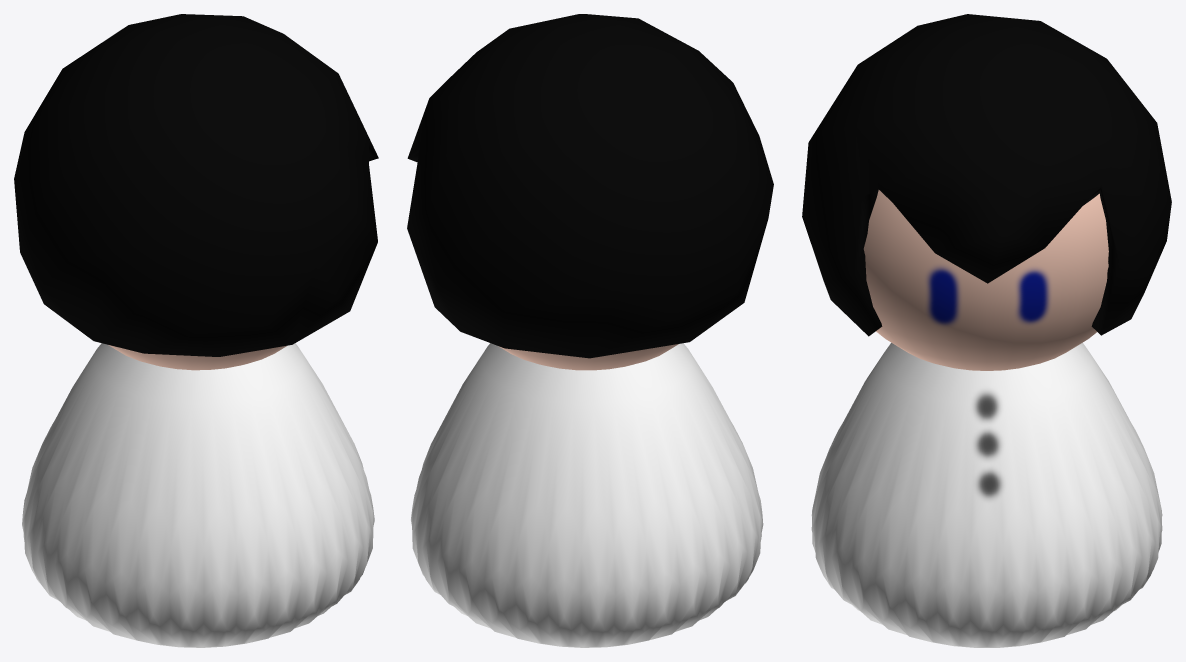
The model's file is playermodel.gltf.
3 renders of one model, left to right at view 1: azimuth 30°, elevation 25°; view 2: azimuth 150°, elevation 25°; view 3: azimuth 270°, elevation 25°, orthographic.
Visible parts, largest first — view 1: Hair.001, Body.001, Head.001; view 2: Hair.001, Body.001, Head.001; view 3: Body.001, Hair.001, Head.001.
Boxes of the visible parts, box(x1,y1,x2,y2) form: Hair.001: box(14, 14, 378, 356); Body.001: box(22, 343, 374, 647); Head.001: box(108, 345, 286, 370); Hair.001: box(407, 14, 773, 358); Body.001: box(411, 343, 763, 647); Head.001: box(498, 344, 678, 370); Body.001: box(811, 343, 1162, 647); Hair.001: box(802, 14, 1171, 336); Head.001: box(863, 190, 1108, 370).
Size of the model in its own units: 1.35 by 2.27 by 1.34.
Materials: 2 (2 with a texture image).
